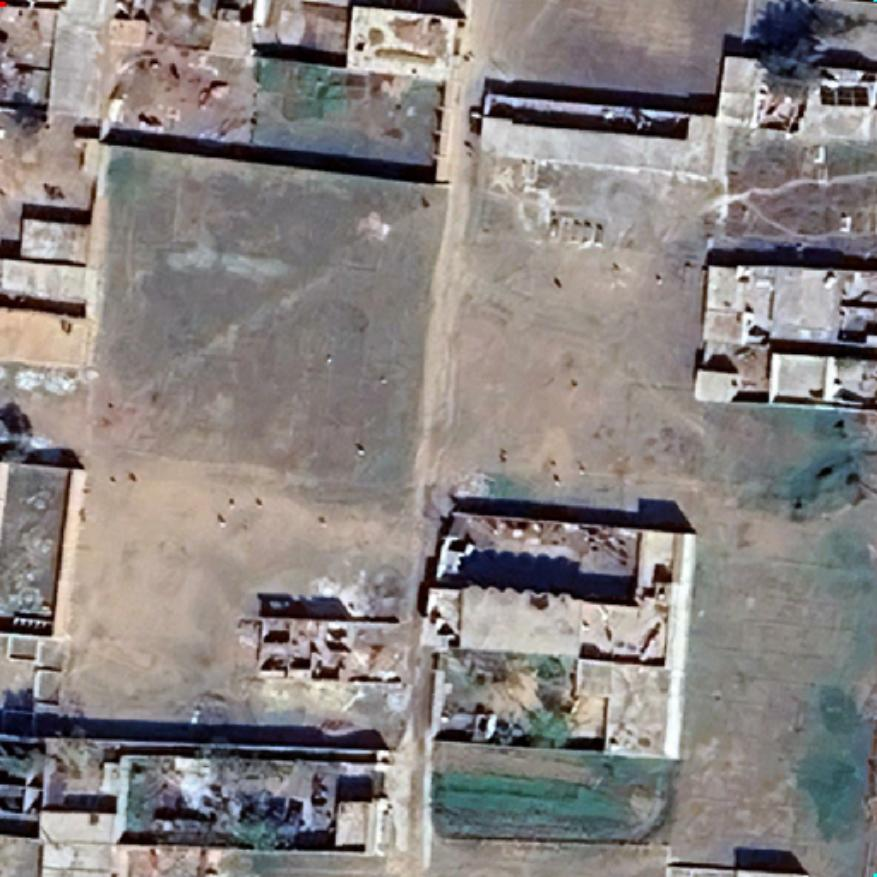Solarpanel: (816, 80, 874, 110)
